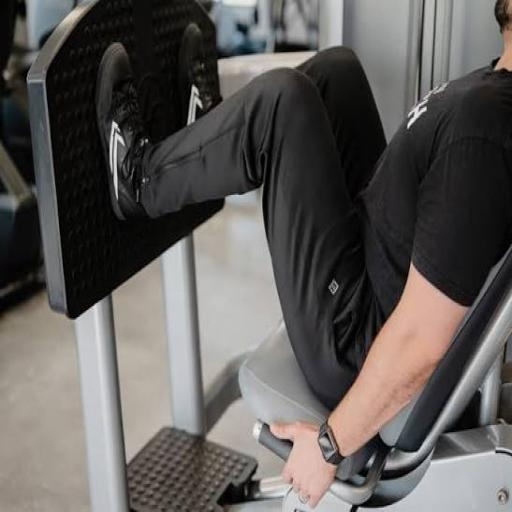Leg Press: (33, 34, 500, 489)
